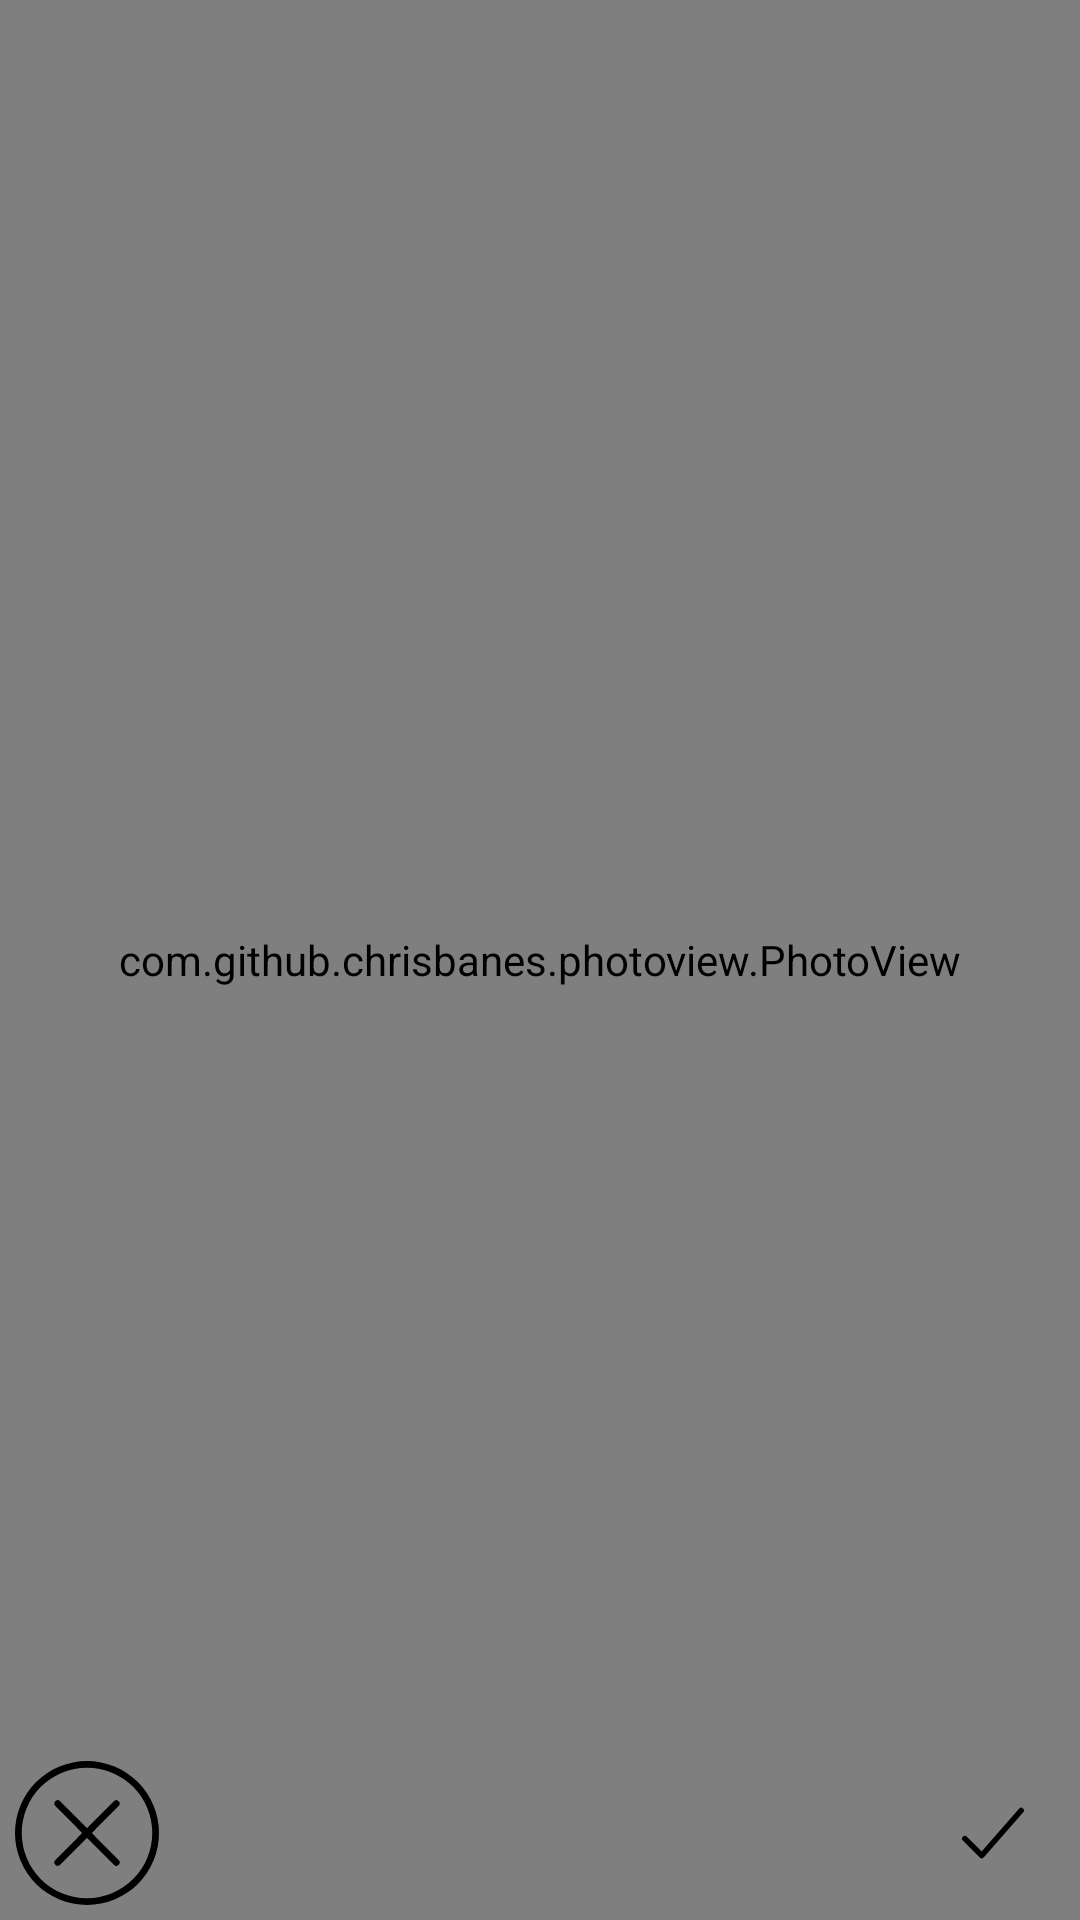

Named icons in this screenshot (1080*1920) and their centers, (x,y):
Cancel: (87,1833)
